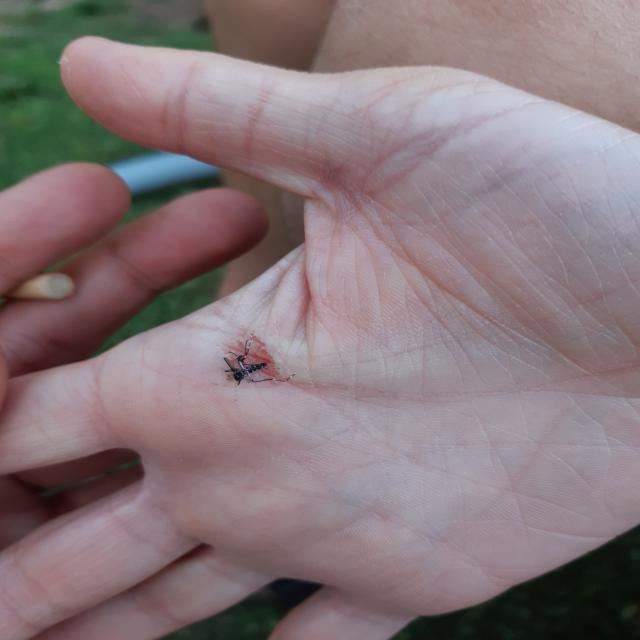albopictus: (216, 328, 294, 392)
